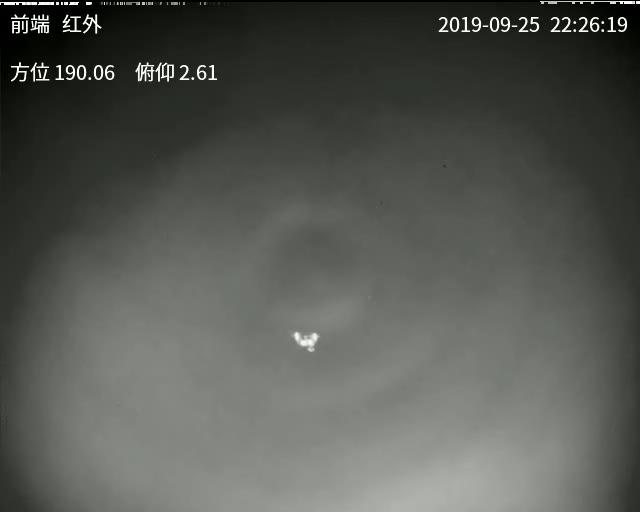uav: (285, 327, 324, 359)
